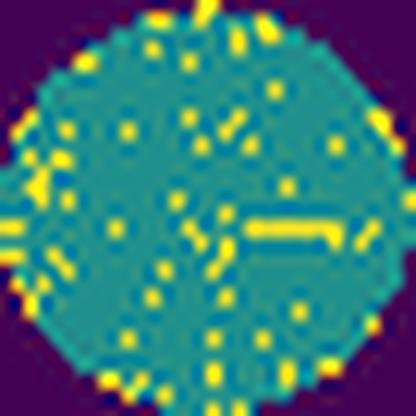Scratch: (237, 216, 347, 258)
